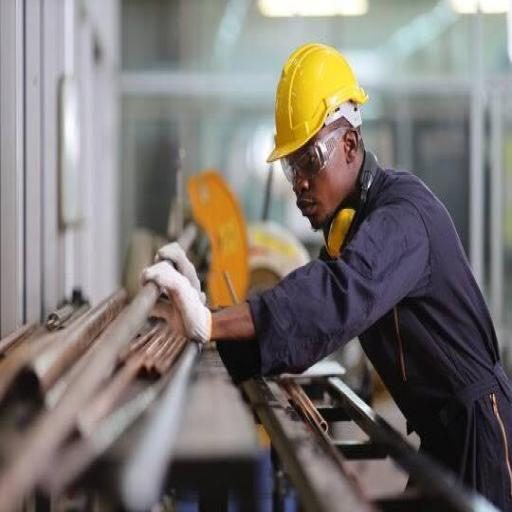workers: (141, 42, 512, 508)
